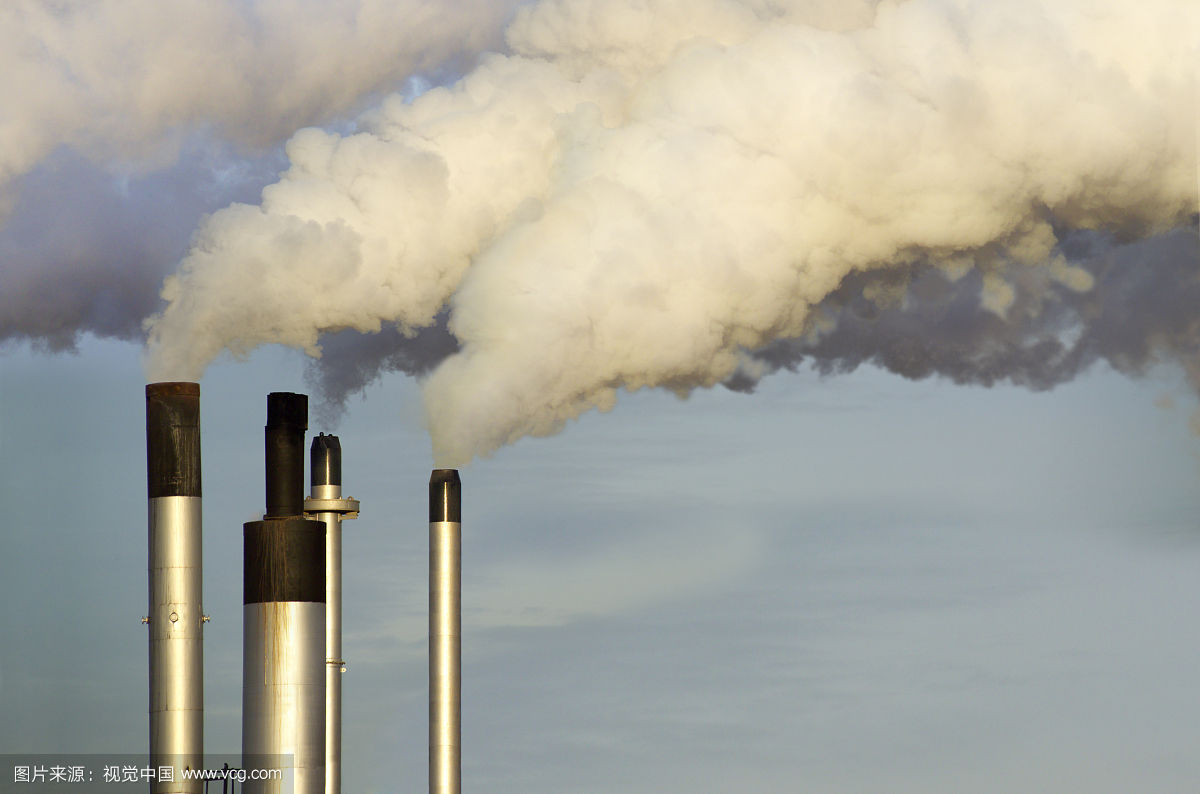dust: (412, 256, 714, 476), (128, 183, 411, 401)
